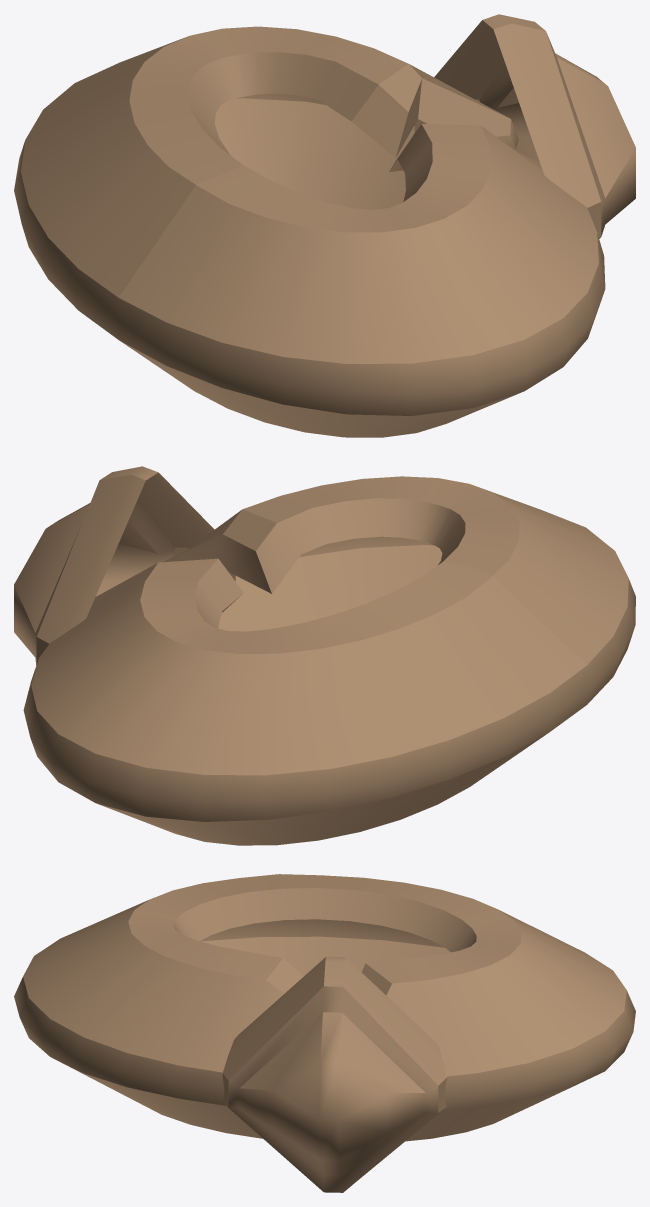
The model's file is CurtainRing.fbx.
The picture shows the model from 3 angles, top to bottom: view 1: azimuth 30°, elevation 25°; view 2: azimuth 150°, elevation 25°; view 3: azimuth 270°, elevation 25°; orthographic projection. The views are drawn at different scales.
Parts seen in each view (by area): view 1: Curtain_lowres:Curtain_lowres:pCylinder2; view 2: Curtain_lowres:Curtain_lowres:pCylinder2; view 3: Curtain_lowres:Curtain_lowres:pCylinder2.
Part boxes in pixels (x1,y1,x2,y2): Curtain_lowres:Curtain_lowres:pCylinder2: (14, 14, 635, 437); Curtain_lowres:Curtain_lowres:pCylinder2: (14, 466, 635, 845); Curtain_lowres:Curtain_lowres:pCylinder2: (14, 874, 635, 1192).
Bounding box in the file's own units: 21.93 × 11.14 × 27.34.
